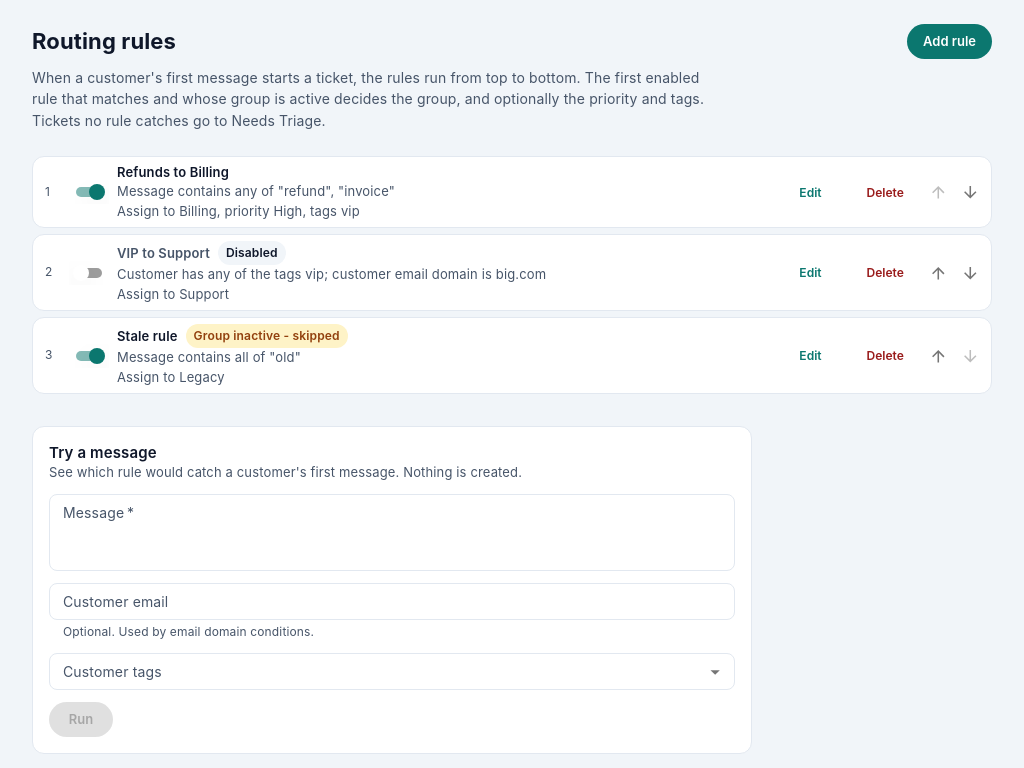
it: RoutingRulesView list › toasts a generic failure for a toggle
This screenshot has width=1024, height=768.
Click the switch named "Enable Refunds to Billing" at (97, 192), box [89, 184, 105, 200]
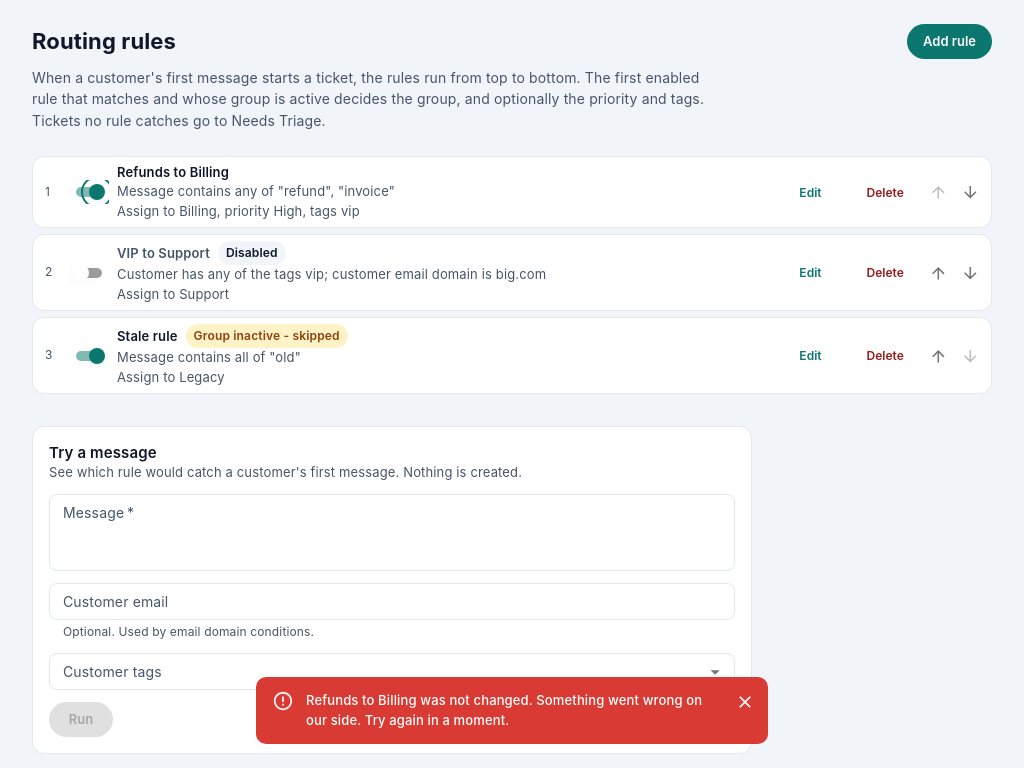
Result: the text "Refunds to Billing was not changed." is shown at [306, 692, 702, 728]
